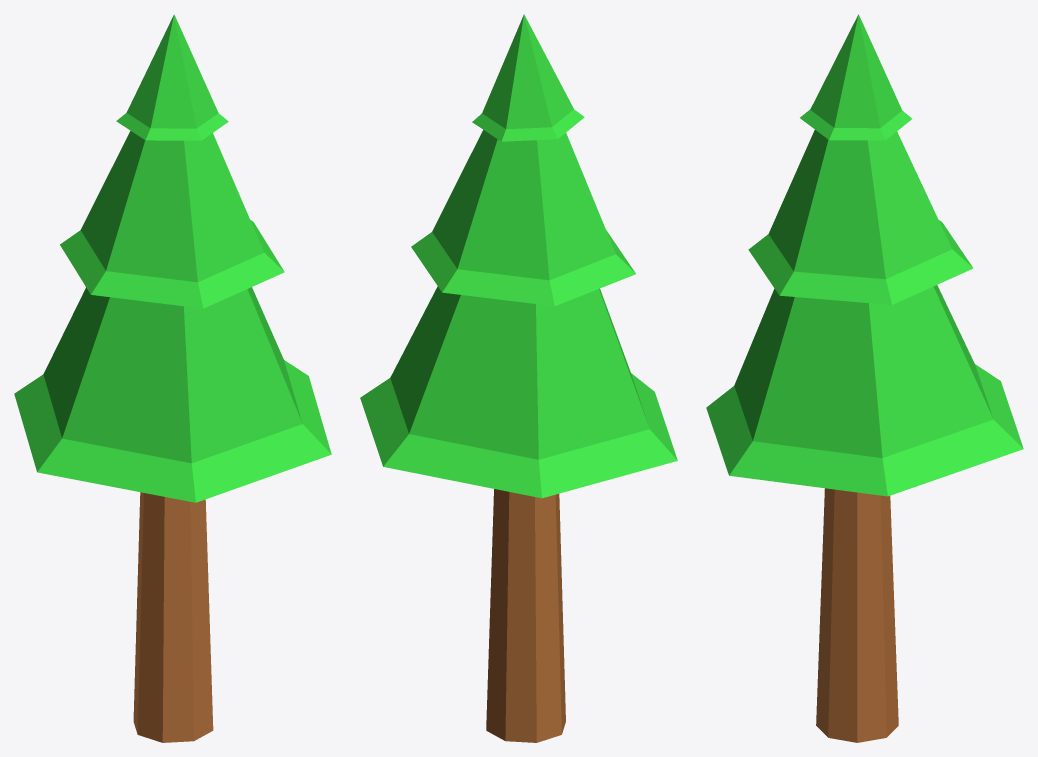
Rendered from kesa_manty1.fbx.
3 renders of one model, left to right at view 1: azimuth 30°, elevation 25°; view 2: azimuth 150°, elevation 25°; view 3: azimuth 270°, elevation 25°, orthographic.
Visible parts, largest first — view 1: Cone.003, Cylinder; view 2: Cone.003, Cylinder; view 3: Cone.003, Cylinder.
Boxes of the visible parts, x1=… form: Cone.003: x1=14, y1=14, x2=331, y2=502; Cylinder: x1=133, y1=492, x2=213, y2=742; Cone.003: x1=360, y1=14, x2=677, y2=498; Cylinder: x1=486, y1=489, x2=565, y2=742; Cone.003: x1=706, y1=14, x2=1023, y2=496; Cylinder: x1=816, y1=488, x2=898, y2=742.
Bounding box in the file's own units: 666 × 1537 × 621.
